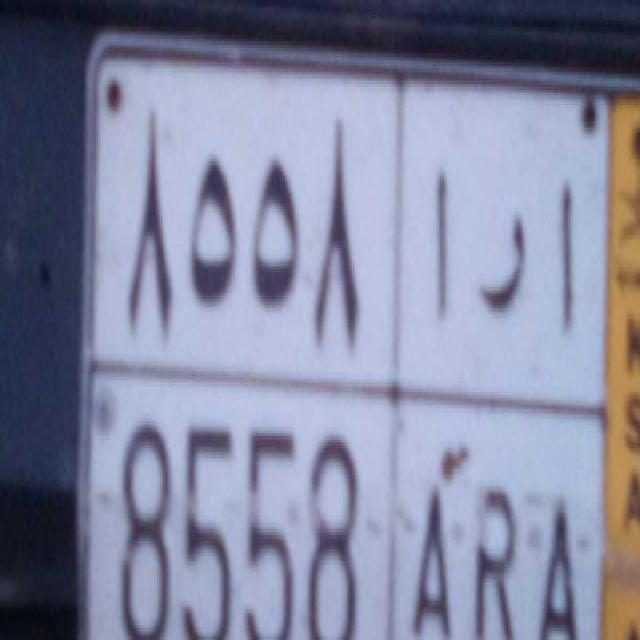license_plate: (84, 356, 604, 640)
